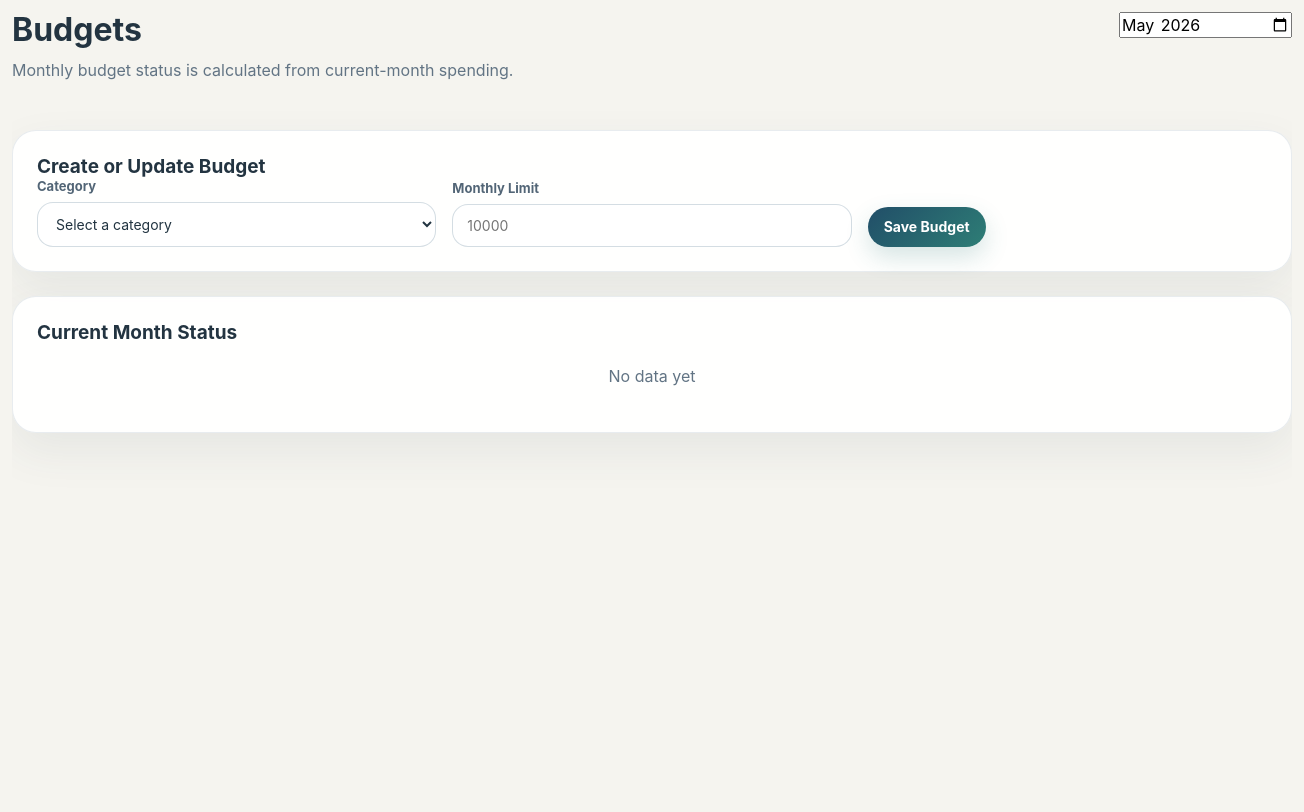
Scenario: Budgets page › submits a budget and keeps the English success copy intact
The image size is (1304, 812).
Select "Food" in the dropdown with id "budget-category" at (237,224), box [37,202,436,247]
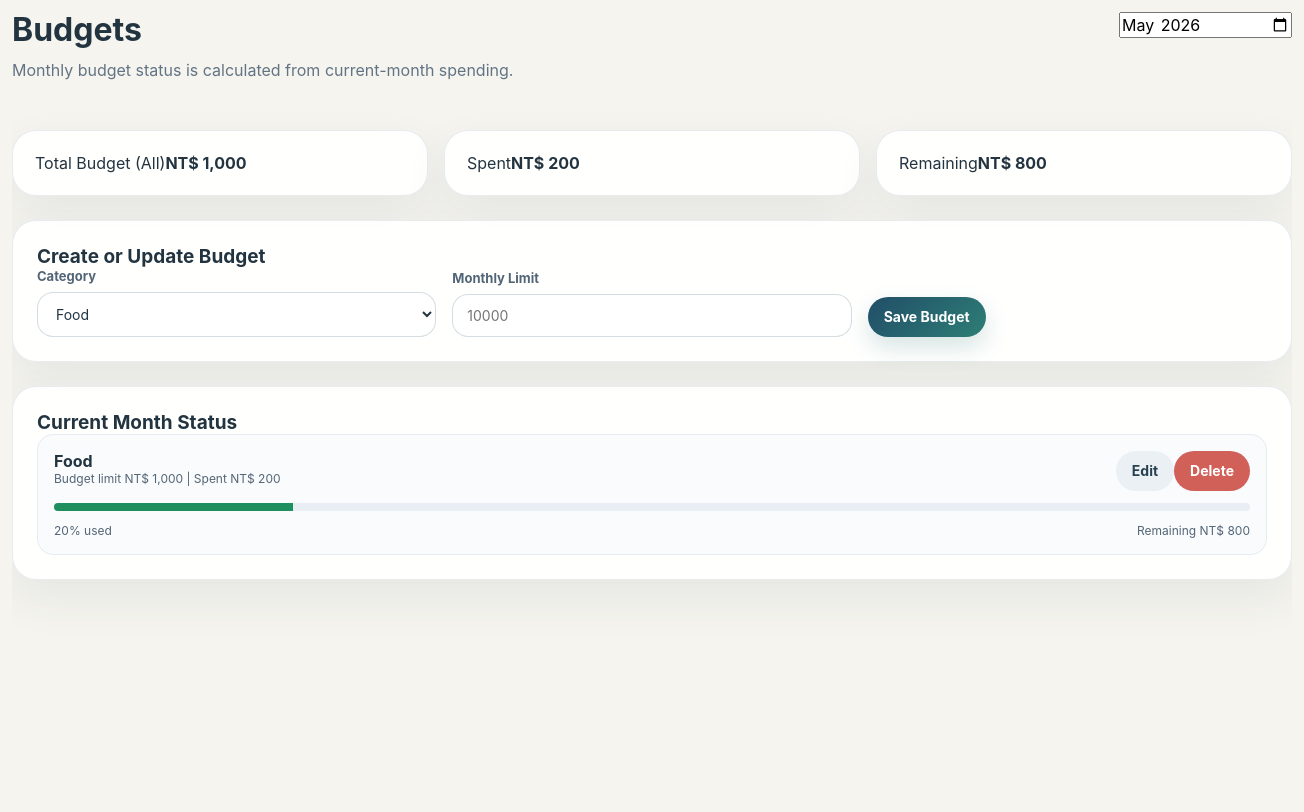
Type "1500" into the number field with id "budget-limit".
click(652, 316); type("1500")  # box [452,294,852,337]
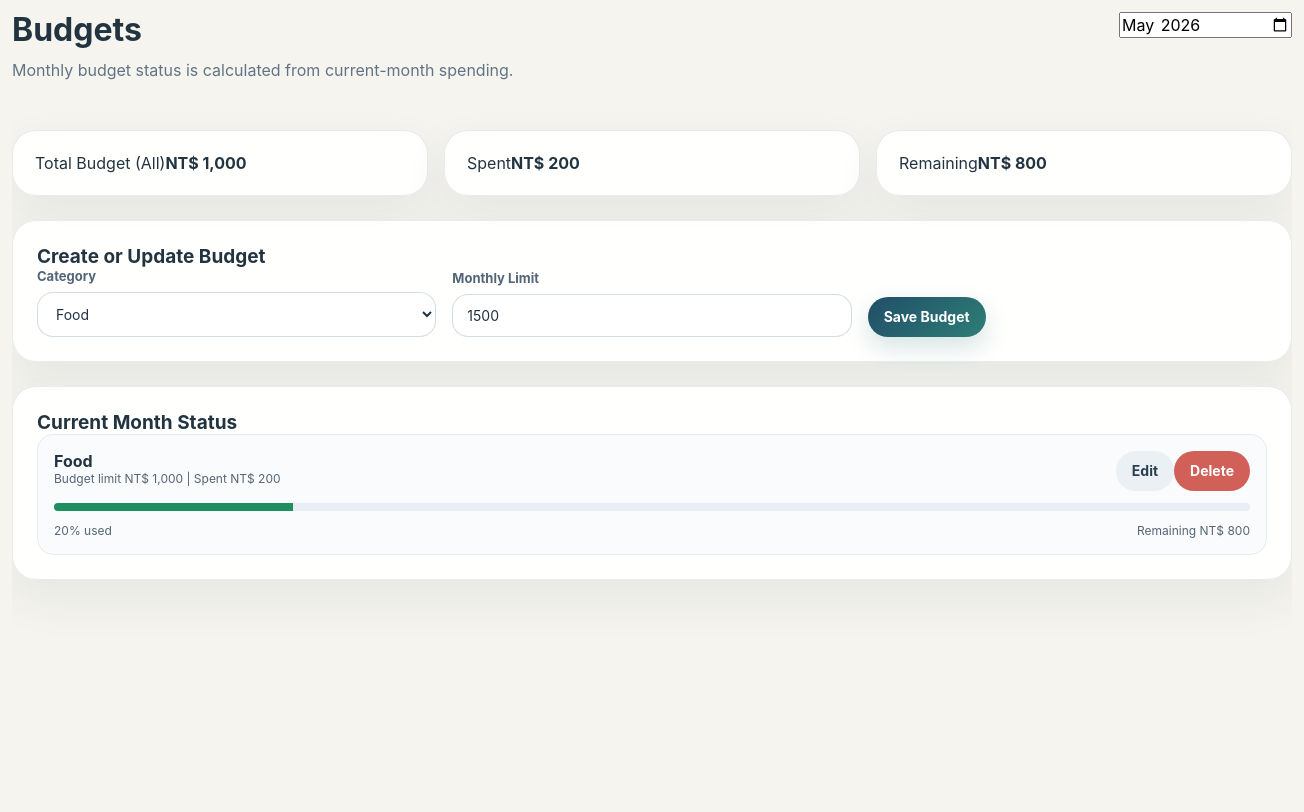
Submit the form, box [37,268,986,337]
Wait 250 ms
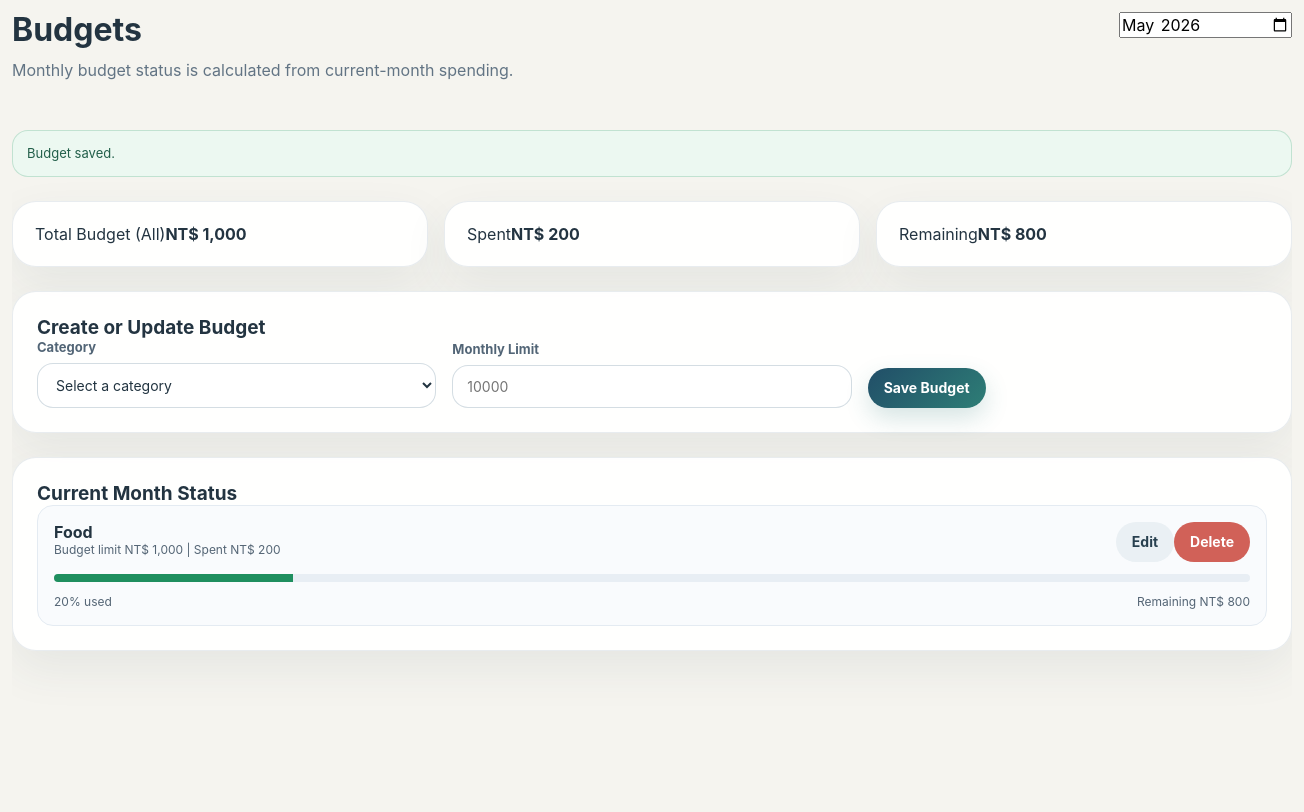
Result: the text "Total Budget (All)" is shown at [35,224,165,244]
Result: the text "Budget saved." is shown at [12,130,1292,177]
